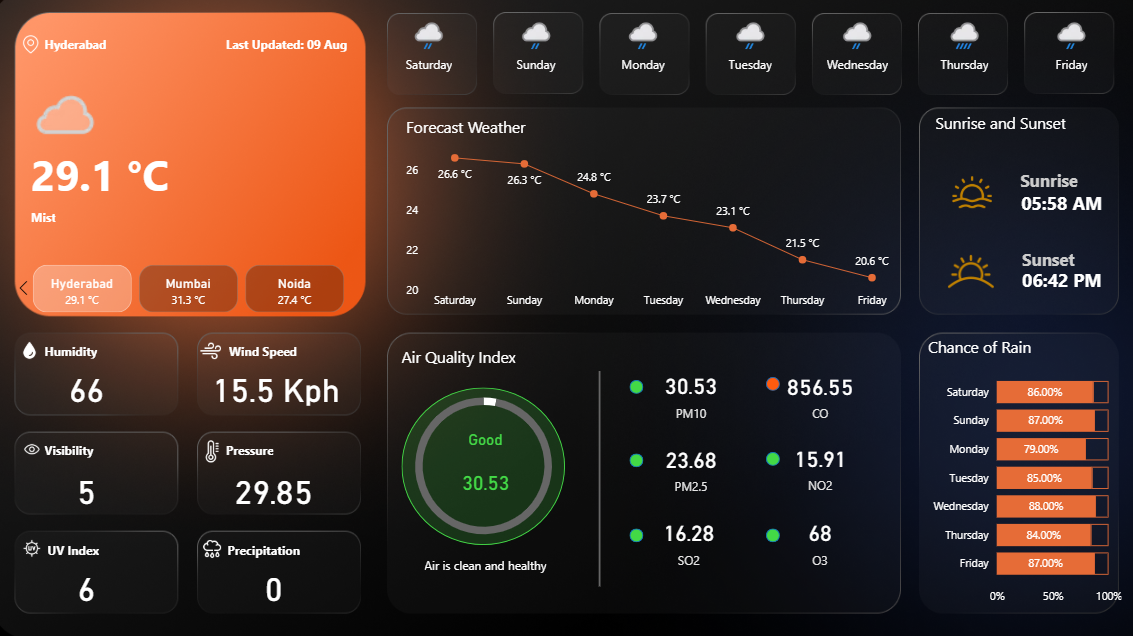

Layout of this report page (visuals, bound fields, positions):
{"tool":"powerbi","page":{"name":"Page 1","canvas":[1280,720],"ordinal":0},"visuals":[{"type":"shape","box":[455,438.3,181.7,175],"z":0},{"type":"advancedSlicerVisual","fields":{"Values":["Location.location.name"]},"box":[19.5,295.9,398.3,63.4],"z":1000},{"type":"shape","box":[43.9,138.2,235.7,123.6],"z":2000},{"type":"shape","box":[43.9,187,177.2,125.2],"z":3000},{"type":"shape","box":[59.1,25.6,137.4,62.3],"z":4000},{"type":"shape","box":[260.1,34.1,160.9,45.5],"z":5000},{"type":"image","box":[22.4,41.5,43.1,30.4],"z":6000},{"type":"cardVisual","fields":{"Data":["Min(Current.current.condition.icon)"]},"box":[14.6,73.2,118.7,92.7],"z":7000},{"type":"shape","box":[59.1,375.5,161.4,44.7],"z":8000},{"type":"image","box":[22.4,381.8,39.9,30.4],"z":9000},{"type":"image","box":[22.4,492.1,44.7,30.4],"z":10000},{"type":"shape","box":[59.1,485.7,161.4,44.7],"z":11000},{"type":"image","box":[22.4,602.3,44.7,30.4],"z":12000},{"type":"shape","box":[62.3,595.9,161.4,44.7],"z":13000},{"type":"image","box":[223.7,380.2,39.9,35.1],"z":14000},{"type":"image","box":[225.3,492.1,39.9,35.1],"z":15000},{"type":"image","box":[225.3,600.7,39.9,35.1],"z":16000},{"type":"shape","box":[263.6,375.5,161.4,44.7],"z":17000},{"type":"shape","box":[260.4,485.7,161.4,44.7],"z":18000},{"type":"shape","box":[262,595.9,161.4,44.7],"z":19000},{"type":"card","fields":{"Values":["Sum(Current.current.humidity)"]},"box":[45.5,412.9,118.7,50.4],"z":20000},{"type":"card","fields":{"Values":["_Measure.Wind_Speed"]},"box":[226,412.9,177.2,50.4],"z":21000},{"type":"card","fields":{"Values":["Sum(Current.current.vis_km)"]},"box":[45.5,523.5,118.7,55.3],"z":22000},{"type":"card","fields":{"Values":["Sum(Current.current.pressure_in)"]},"box":[253.6,523.5,118.7,55.3],"z":23000},{"type":"card","fields":{"Values":["Sum(Current.current.uv)"]},"box":[45.5,632.4,118.7,55.3],"z":24000},{"type":"card","fields":{"Values":["Sum(Current.current.precip_mm)"]},"box":[253.6,632.4,118.7,55.3],"z":25000},{"type":"advancedSlicerVisual","fields":{"Values":["Forecast_Day.Day_Name"]},"box":[424.3,14.6,835.6,105.7],"z":26000},{"type":"lineChart","title":"Forecast Weather","fields":{"Y":["Sum(Forecast_Day.forecast.forecastday.day.avgtemp_c)"],"Category":["Forecast_Day.Day_Name"]},"box":[455.6,137,558.4,222.7],"z":27000},{"type":"shape","box":[1048.1,121.4,161.4,44.7],"z":28000},{"type":"shape","box":[1105.6,186.9,139,41.5],"z":29000},{"type":"shape","box":[1108.8,274.8,131,41.5],"z":30000},{"type":"shape","box":[1116.8,212.5,143.8,43.1],"z":31000},{"type":"shape","box":[1120,295.6,137.4,47.9],"z":32000},{"type":"image","box":[1060.9,193.3,54.3,55.9],"z":33000},{"type":"image","box":[1048.1,260.4,78.3,99.1],"z":34000},{"type":"hundredPercentStackedBarChart","title":"Chance of Rain","fields":{"Category":["Forecast_Day.Day_Name"],"Y":["Sum(Forecast_Day.forecast.forecastday.day.daily_chance_of_rain)","Current.Left_value_rain"]},"box":[1035.3,381.8,225.3,306.8],"z":35000},{"type":"shape","box":[455.3,381.8,174.1,44.7],"z":36000},{"type":"card","fields":{"Values":["Sum(Current.current.air_quality.co)"]},"box":[868.5,404.3,103.2,81.5],"z":37000},{"type":"card","fields":{"Values":["Sum(Current.current.air_quality.no2)"]},"box":[868.5,485.8,103.2,81.5],"z":38000},{"type":"card","fields":{"Values":["Sum(Current.current.air_quality.o3)"]},"box":[868.4,568.6,102.8,80.5],"z":39000},{"type":"card","fields":{"Values":["Sum(Current.current.air_quality.pm10)"]},"box":[724.5,404.2,102.8,80.5],"z":40000},{"type":"card","fields":{"Values":["Sum(Current.current.air_quality.pm2_5)"]},"box":[724.5,486.4,102.8,80.5],"z":41000},{"type":"card","fields":{"Values":["Sum(Current.current.air_quality.so2)"]},"box":[724.5,568.6,97.6,80.5],"z":42000},{"type":"shape","box":[709.1,429.9,15.4,15.4],"z":43000},{"type":"shape","box":[859.8,426.5,15.4,15.4],"z":44000},{"type":"shape","box":[709.1,512.1,15.4,15.4],"z":45000},{"type":"shape","box":[709.1,594.3,15.4,15.4],"z":46000},{"type":"shape","box":[859.8,510.4,15.4,15.4],"z":47000},{"type":"shape","box":[859.8,594.3,15.4,15.4],"z":48000},{"type":"shape","box":[600.7,420.2,150.2,239.7],"z":49000},{"type":"card","fields":{"Values":["Sum(Current.current.air_quality.pm10)"]},"box":[493.3,486.7,110,95],"z":50000},{"type":"donutChart","fields":{"Y":["Sum(Current.current.air_quality.pm10)","_Measure.left_value_PM10"]},"box":[441.7,425,208.3,200],"z":51000},{"type":"shape","box":[443.3,608.3,210,53.3],"z":51001}]}

Visuals, with their boxes in screenshot pixels (x1, y1, x2, y2), scaled from the page's 1280x720 canvas onto the 1133x636 screenshot:
shape: detection(403, 387, 564, 542)
advancedSlicerVisual - Location.location.name: detection(17, 261, 370, 317)
shape: detection(39, 122, 247, 231)
shape: detection(39, 165, 196, 276)
shape: detection(52, 23, 174, 78)
shape: detection(230, 30, 373, 70)
image: detection(20, 37, 58, 64)
cardVisual - Min(Current.current.condition.icon): detection(13, 65, 118, 147)
shape: detection(52, 332, 195, 371)
image: detection(20, 337, 55, 364)
image: detection(20, 435, 59, 462)
shape: detection(52, 429, 195, 469)
image: detection(20, 532, 59, 559)
shape: detection(55, 526, 198, 566)
image: detection(198, 336, 233, 367)
image: detection(199, 435, 235, 466)
image: detection(199, 531, 235, 562)
shape: detection(233, 332, 376, 371)
shape: detection(230, 429, 373, 469)
shape: detection(232, 526, 375, 566)
card - Sum(Current.current.humidity): detection(40, 365, 145, 409)
card - _Measure.Wind_Speed: detection(200, 365, 357, 409)
card - Sum(Current.current.vis_km): detection(40, 462, 145, 511)
card - Sum(Current.current.pressure_in): detection(224, 462, 330, 511)
card - Sum(Current.current.uv): detection(40, 559, 145, 607)
card - Sum(Current.current.precip_mm): detection(224, 559, 330, 607)
advancedSlicerVisual - Forecast_Day.Day_Name: detection(376, 13, 1115, 106)
"Forecast Weather" lineChart: detection(403, 121, 898, 318)
shape: detection(928, 107, 1071, 147)
shape: detection(979, 165, 1102, 202)
shape: detection(981, 243, 1097, 279)
shape: detection(989, 188, 1116, 226)
shape: detection(991, 261, 1113, 303)
image: detection(939, 171, 987, 220)
image: detection(928, 230, 997, 318)
"Chance of Rain" hundredPercentStackedBarChart: detection(916, 337, 1116, 608)
shape: detection(403, 337, 557, 377)
card - Sum(Current.current.air_quality.co): detection(769, 357, 860, 429)
card - Sum(Current.current.air_quality.no2): detection(769, 429, 860, 501)
card - Sum(Current.current.air_quality.o3): detection(769, 502, 860, 573)
card - Sum(Current.current.air_quality.pm10): detection(641, 357, 732, 428)
card - Sum(Current.current.air_quality.pm2_5): detection(641, 430, 732, 501)
card - Sum(Current.current.air_quality.so2): detection(641, 502, 728, 573)
shape: detection(628, 380, 641, 393)
shape: detection(761, 377, 775, 390)
shape: detection(628, 452, 641, 466)
shape: detection(628, 525, 641, 539)
shape: detection(761, 451, 775, 464)
shape: detection(761, 525, 775, 539)
shape: detection(532, 371, 665, 583)
card - Sum(Current.current.air_quality.pm10): detection(437, 430, 534, 514)
donutChart - Sum(Current.current.air_quality.pm10) x _Measure.left_value_PM10: detection(391, 375, 575, 552)
shape: detection(392, 537, 578, 584)
